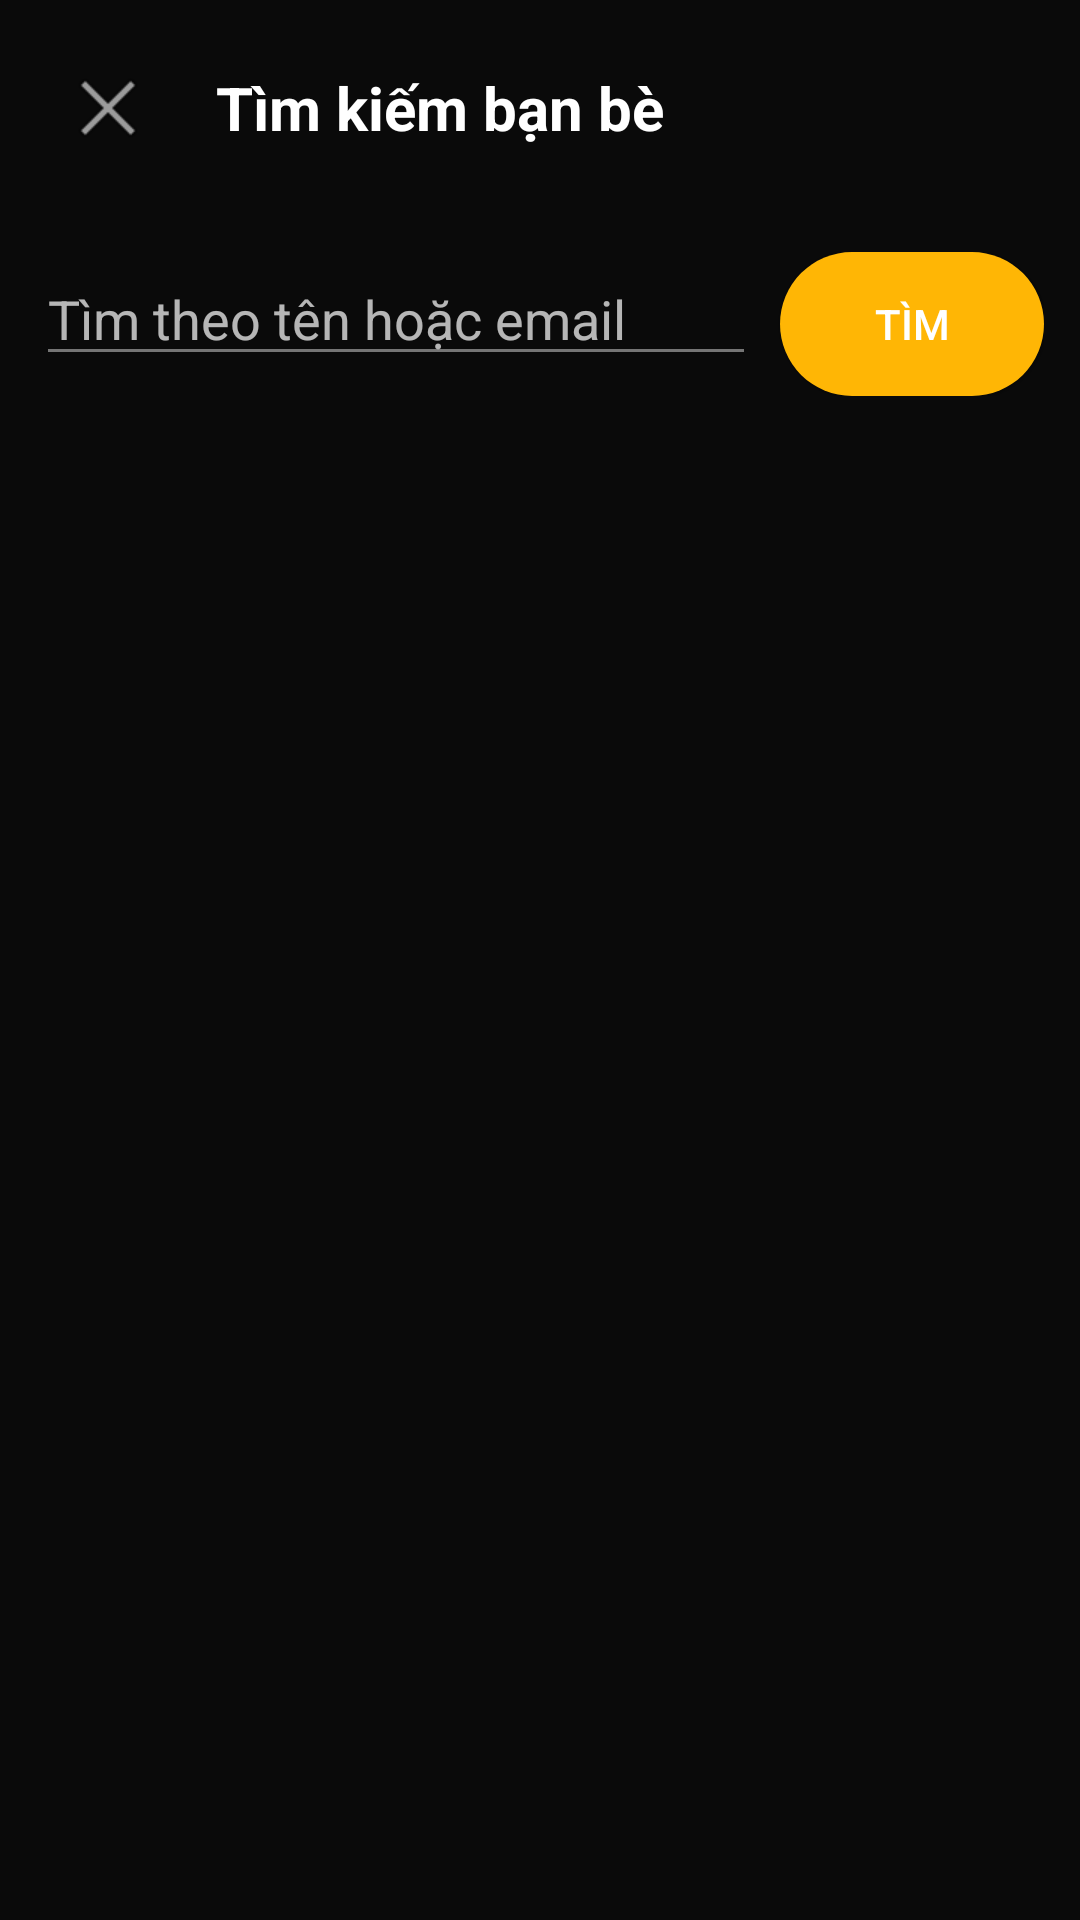

Named icons in this screenshot (1080w x 1920h) and their bounding boxes, {"x1": x1, "y1": y1, "x2": x2, "y2": y2}:
close clear cancel: {"x1": 81, "y1": 81, "x2": 135, "y2": 135}
